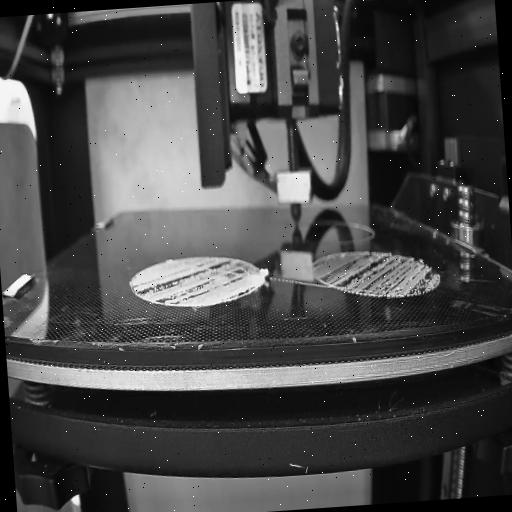under_extrusion: (129, 258, 260, 312), (314, 248, 434, 306)
